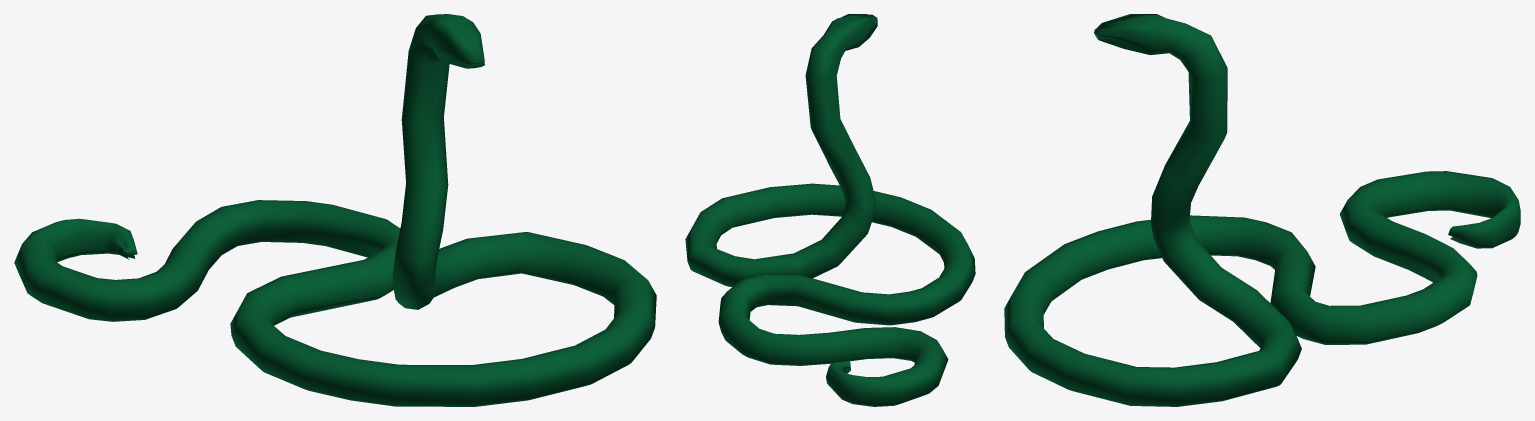
The model's file is snake.fbx.
3 renders of one model, left to right at view 1: azimuth 30°, elevation 25°; view 2: azimuth 150°, elevation 25°; view 3: azimuth 270°, elevation 25°, orthographic. The views are drawn at different scales.
Visible parts, largest first — view 1: snake1; view 2: snake1; view 3: snake1.
Boxes of the visible parts, x1=… form: snake1: x1=14, y1=14, x2=656, y2=406; snake1: x1=685, y1=14, x2=975, y2=406; snake1: x1=1004, y1=14, x2=1520, y2=406.
Bounding box in the file's own units: 55.08 × 37.31 × 56.34.
